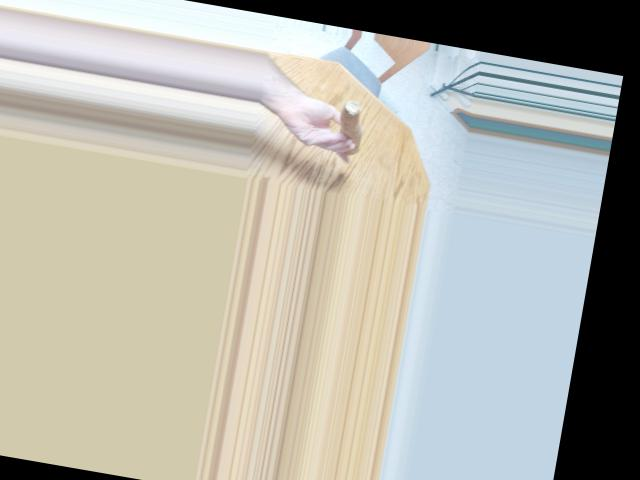sweet_potato: (341, 106, 367, 157)
